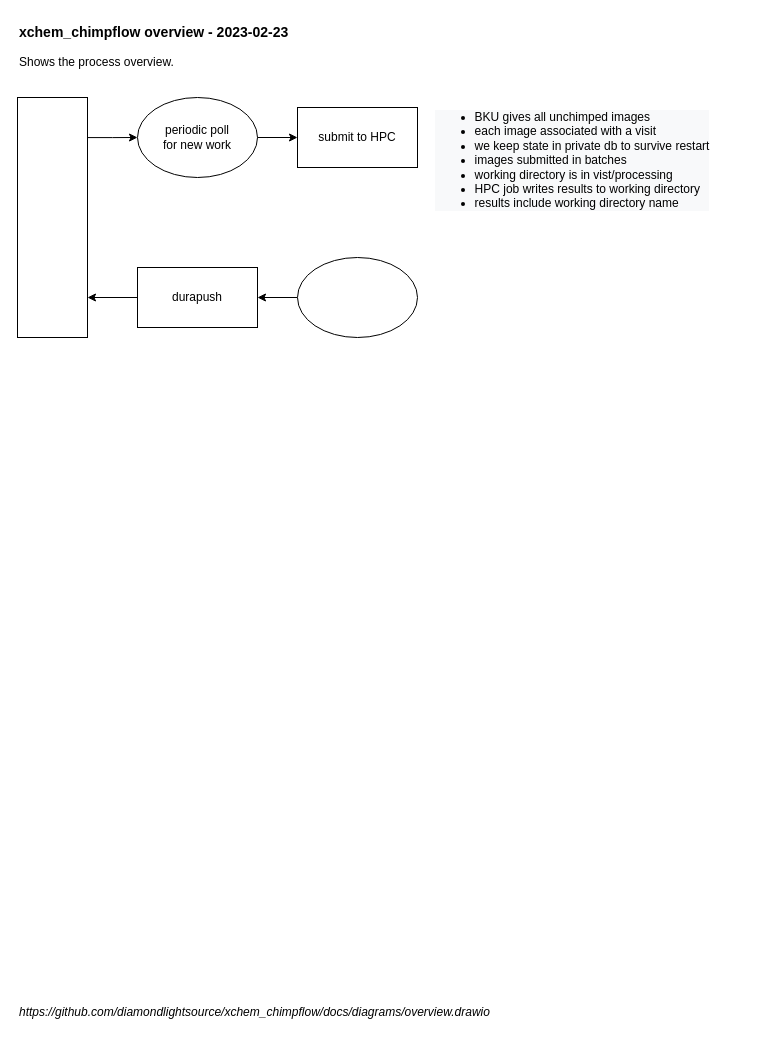
The diagram is 775 pixels wide and 1044 high, and some of its shapes have lost their labels. Each missing label, with the box of its shape:
BKU: (16, 96, 88, 338)
periodic poll for new results: (296, 256, 418, 338)
